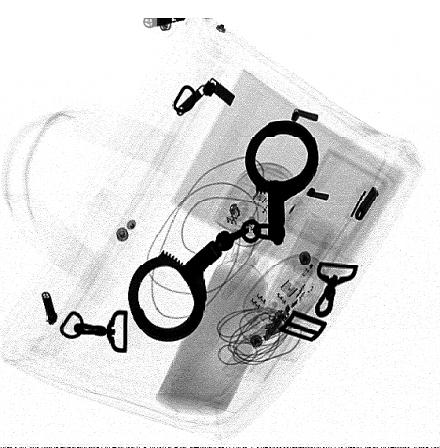HandCuffs: (128, 120, 318, 342)
